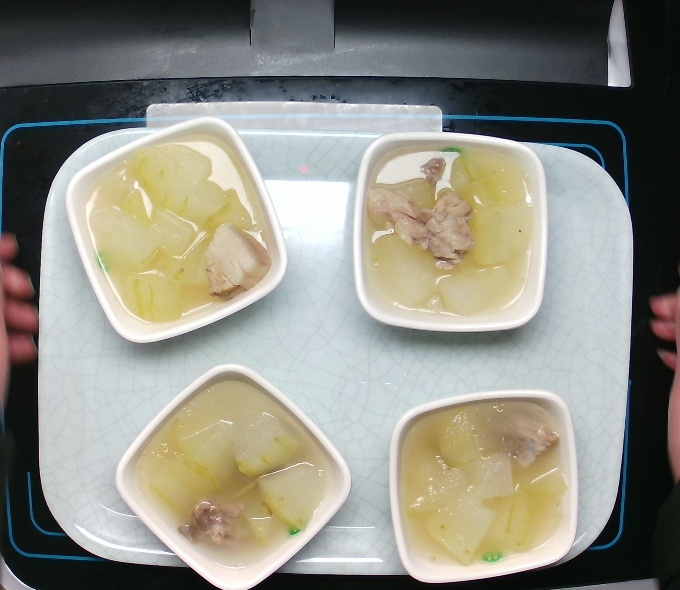wcq-DongGuaZhuRouTang: (84, 129, 273, 328), (133, 376, 327, 569), (363, 141, 540, 321), (401, 398, 569, 568)
